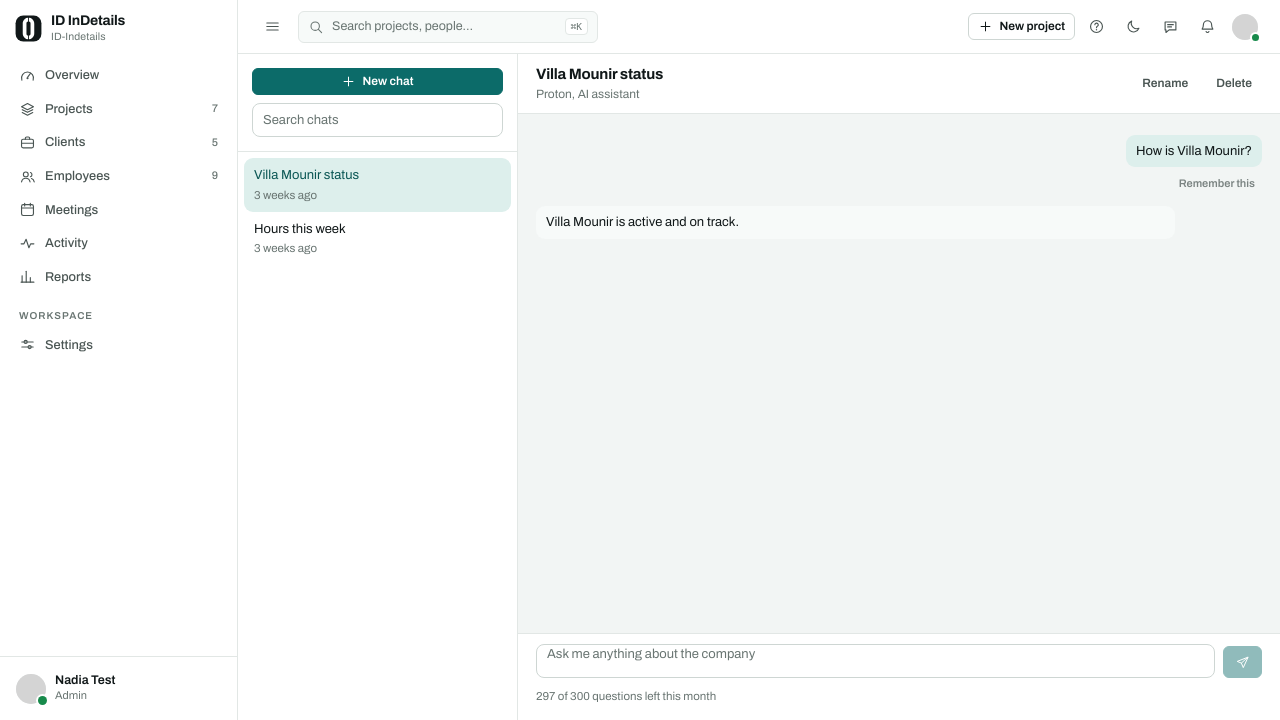
Test: Proton's page › starts a new chat without deleting the one before, and gives it its address once answered
Check: the text "Villa Mounir is active and on track." is shown, box top-left (546, 215), bottom-right (739, 229)
Click the button "New chat" at (378, 82), box top-left (252, 68), bottom-right (503, 95)
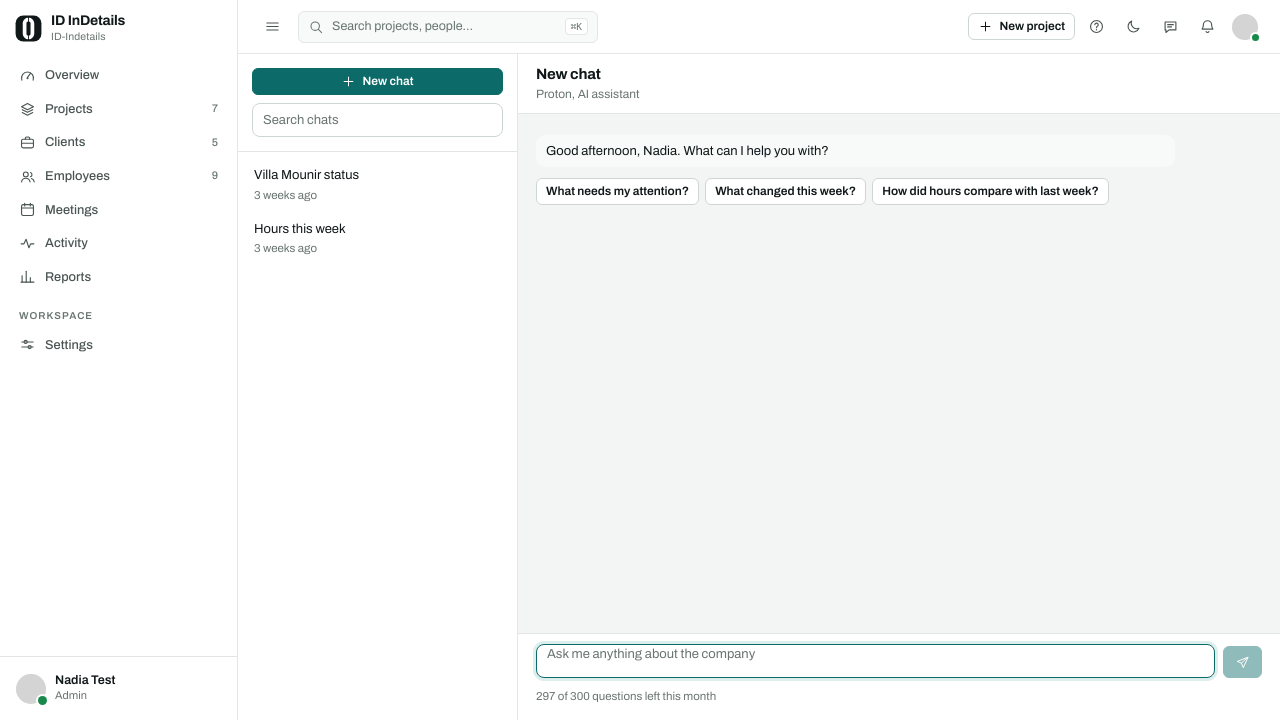
Check: the text "Villa Mounir is active and on track." is gone
Type "Hours this month?" into the text box named "Ask Proton" at (876, 661), box top-left (536, 644), bottom-right (1215, 678)
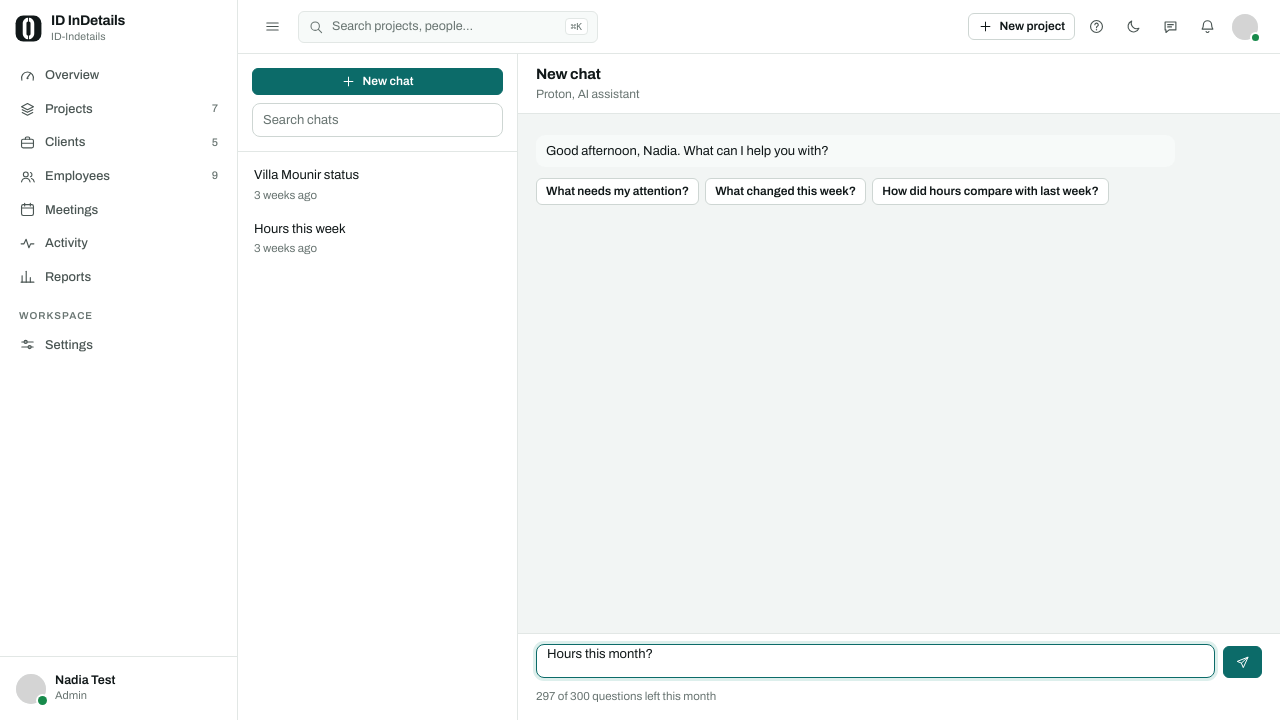
Click the button named "Send" at (1242, 662), box top-left (1223, 646), bottom-right (1262, 678)
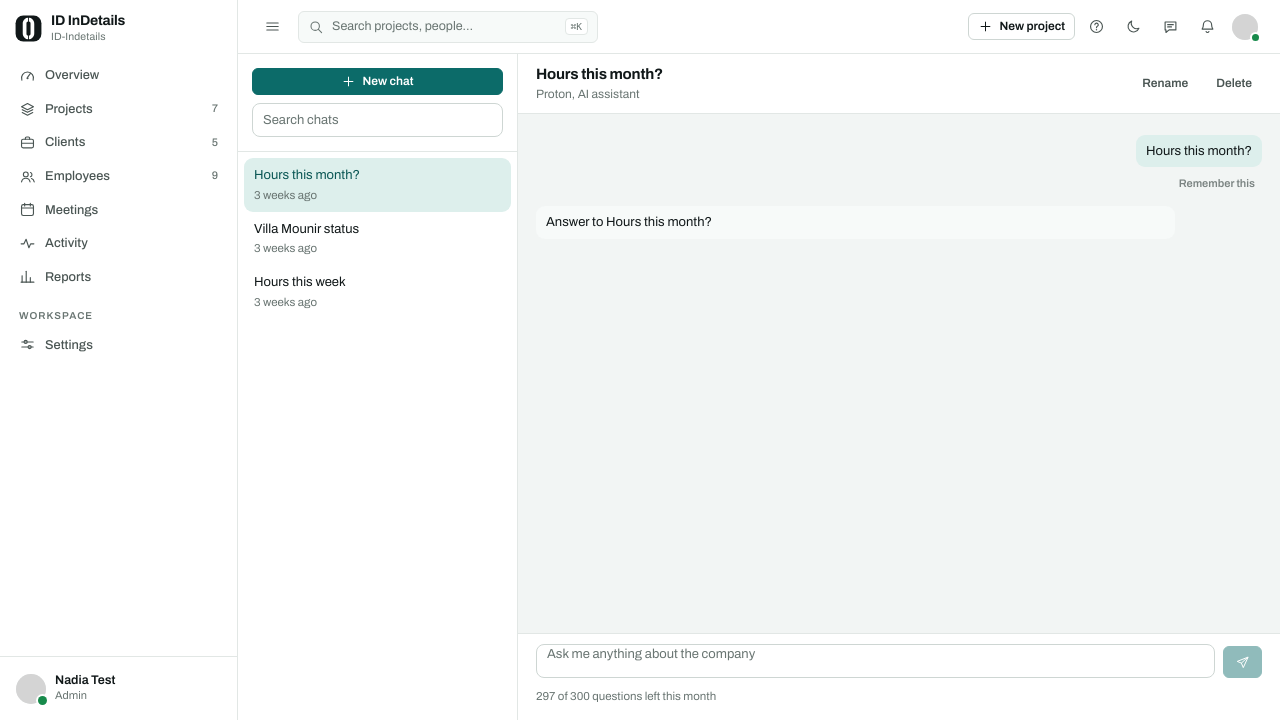
Check: the text "Answer to Hours this month?" is shown, box top-left (546, 215), bottom-right (712, 229)
